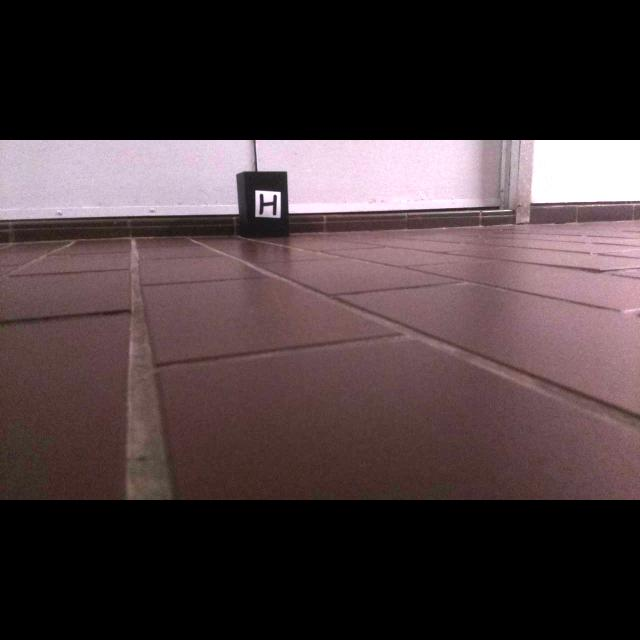H: (259, 194, 277, 216)
